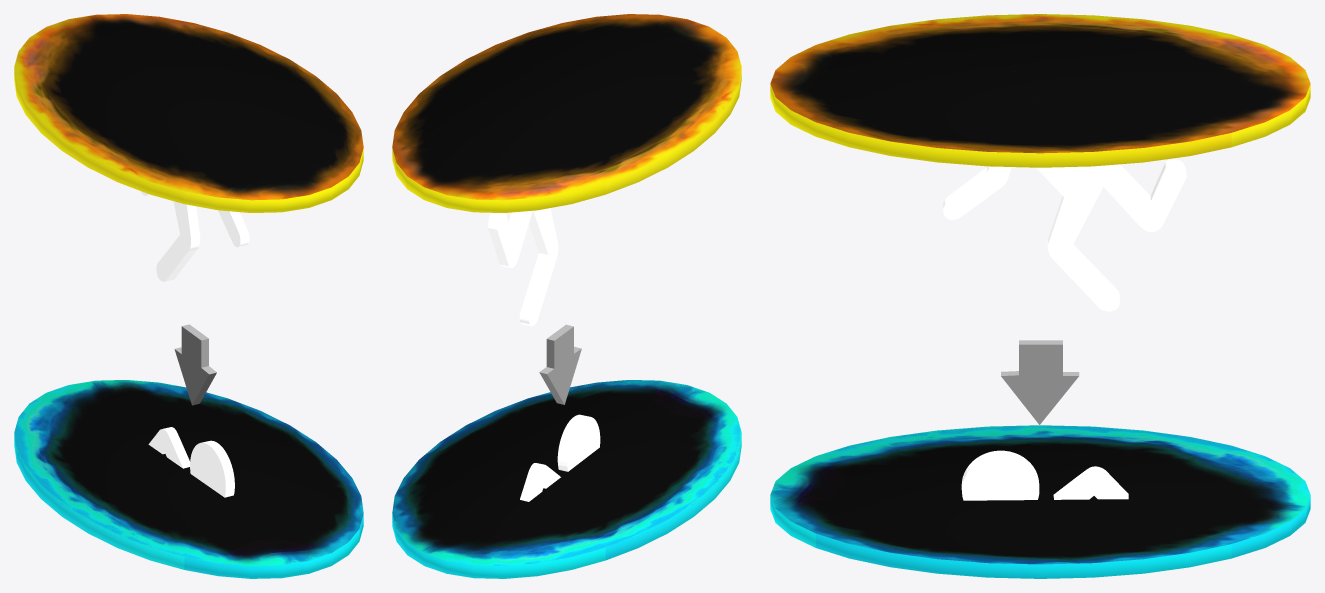
File: portal.glb
3 renders of one model, left to right at view 1: azimuth 30°, elevation 25°; view 2: azimuth 150°, elevation 25°; view 3: azimuth 270°, elevation 25°, orthographic. The views are drawn at different scales.
Parts seen in each view (by area): view 1: Cylinder.001, Cylinder, guy2, Curve, Curve.001; view 2: Cylinder.001, Cylinder, Curve, guy2, Curve.001; view 3: Cylinder.001, Cylinder, Curve, guy2, Curve.001.
Part boxes in pixels (box(x1,y1,x2,y2)): Cylinder.001: box(14, 14, 363, 212); Cylinder: box(14, 380, 363, 578); guy2: box(148, 427, 234, 497); Curve: box(140, 191, 249, 281); Curve.001: box(174, 324, 216, 405); Cylinder.001: box(392, 14, 741, 212); Cylinder: box(392, 380, 741, 578); Curve: box(488, 208, 558, 326); guy2: box(520, 414, 600, 501); Curve.001: box(539, 324, 581, 404); Cylinder.001: box(770, 14, 1310, 167); Cylinder: box(770, 425, 1310, 578); Curve: box(943, 159, 1186, 311); guy2: box(961, 450, 1128, 500); Curve.001: box(1001, 340, 1079, 424).
Bounding box in the file's own units: 1.22 × 1.74 × 2.
4 materials, 2 textured.
